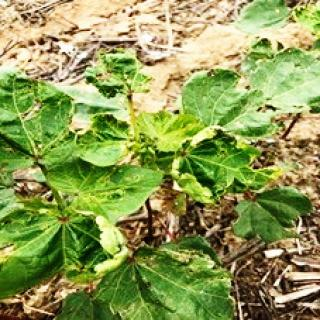wilt: (126, 106, 200, 160)
